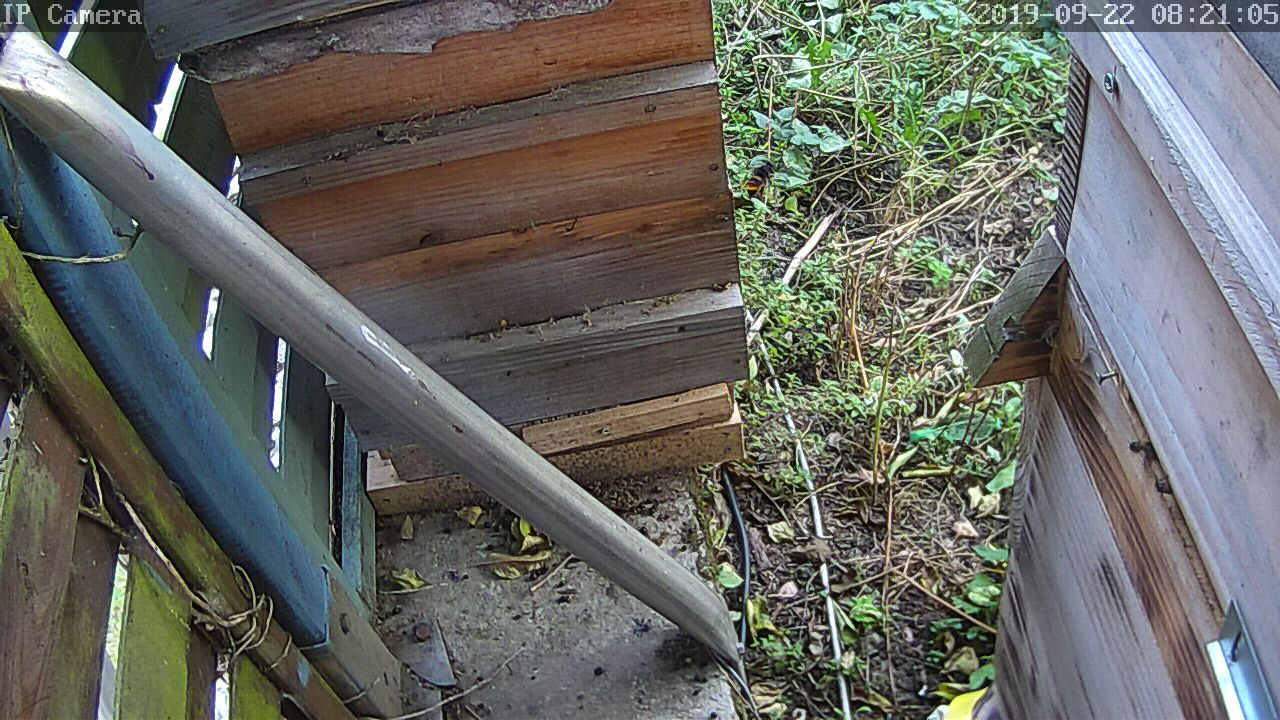bee: (1139, 450, 1179, 489)
hornet: (740, 152, 771, 202)
